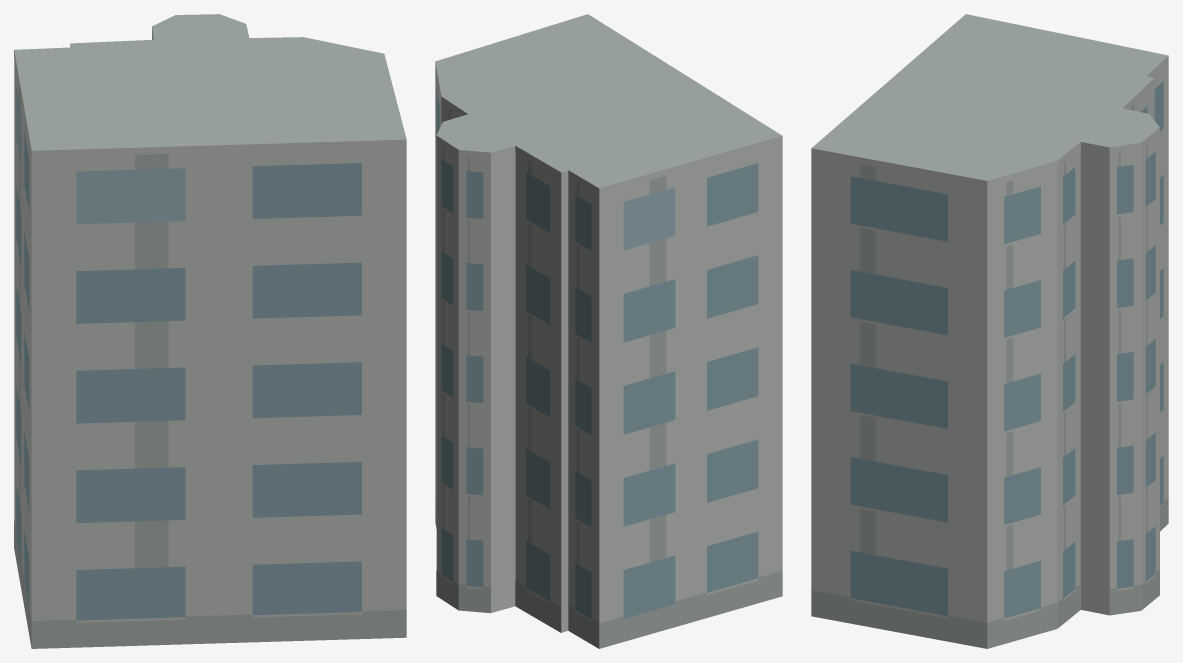
The model's file is survey-upis-32895930.glb.
3 renders of one model, left to right at view 1: azimuth 30°, elevation 25°; view 2: azimuth 150°, elevation 25°; view 3: azimuth 270°, elevation 25°, orthographic. The views are drawn at different scales.
Visible parts, largest first — view 1: survey-upis-32895930.tmp; view 2: survey-upis-32895930.tmp; view 3: survey-upis-32895930.tmp.
Part boxes in pixels (bbox=[...]): survey-upis-32895930.tmp: bbox=[14, 14, 406, 648]; survey-upis-32895930.tmp: bbox=[435, 14, 782, 648]; survey-upis-32895930.tmp: bbox=[811, 14, 1168, 648].
Size of the model in its own units: 13.2 by 17.25 by 11.95.
